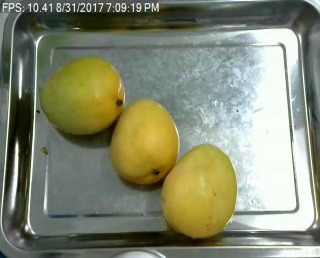Mango: (160, 143, 237, 238), (38, 56, 124, 136), (110, 97, 178, 184)
